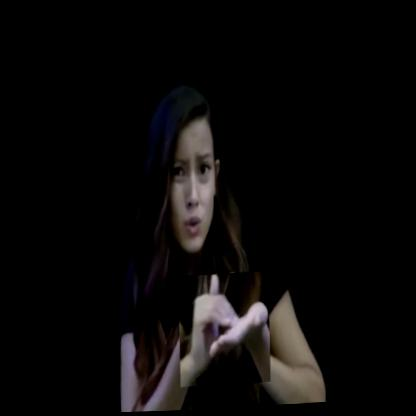ExcuseMe: (178, 273, 273, 389)
